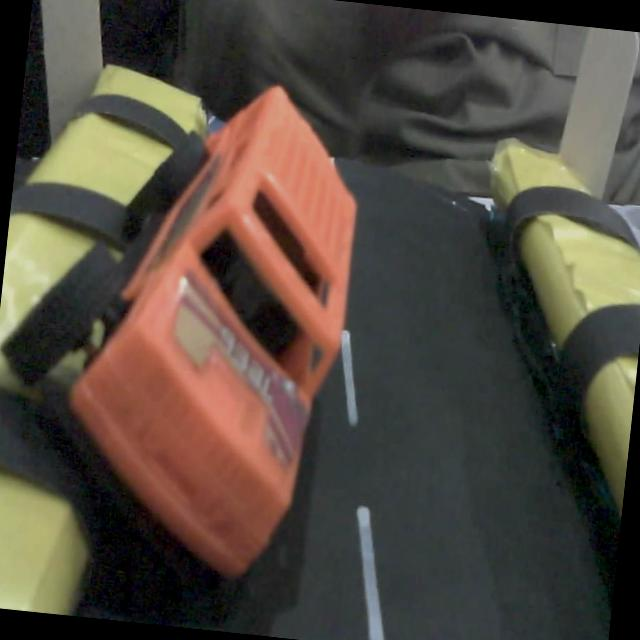Accident: (0, 69, 386, 629)
